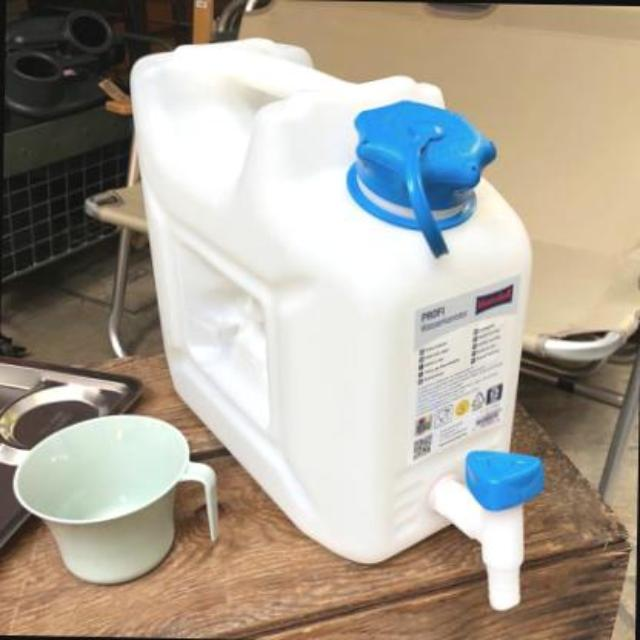chemical_plastic_gallon: (95, 29, 587, 612)
